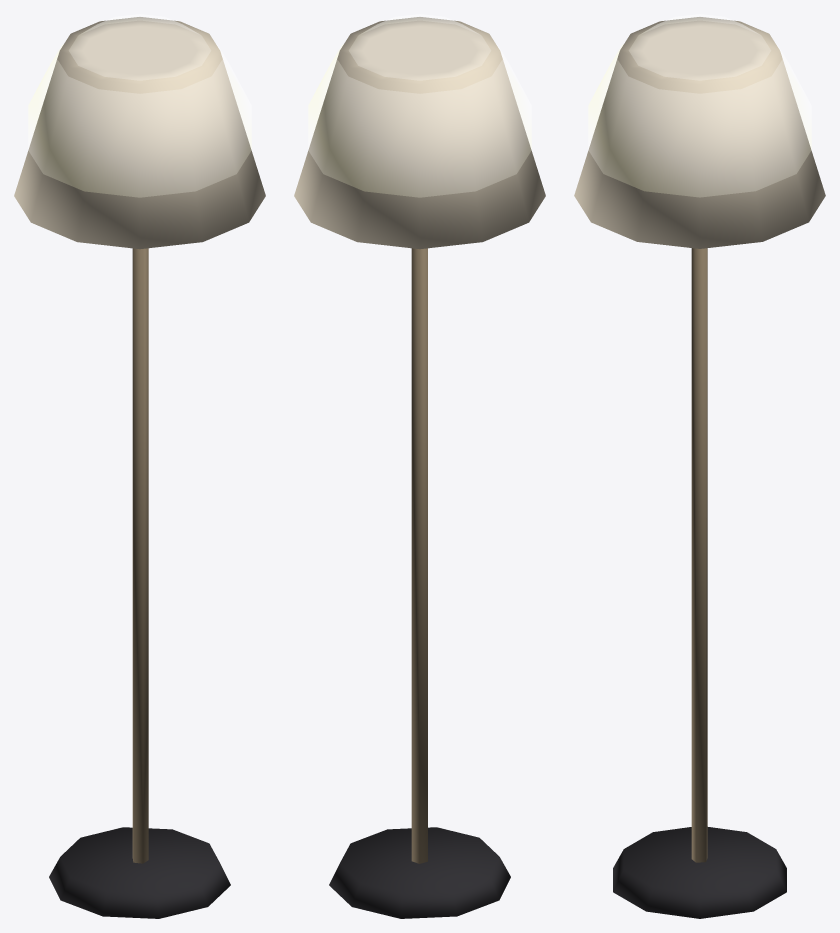
The model's file is city_floor_lamp.glb.
The picture shows the model from 3 angles, left to right: view 1: azimuth 30°, elevation 25°; view 2: azimuth 150°, elevation 25°; view 3: azimuth 270°, elevation 25°; orthographic projection.
Visible parts, largest first — view 1: CityFloorLamp_Shade, CityFloorLamp_Bulb_Halo, CityFloorLamp_Base, CityFloorLamp_Stem; view 2: CityFloorLamp_Shade, CityFloorLamp_Bulb_Halo, CityFloorLamp_Base, CityFloorLamp_Stem; view 3: CityFloorLamp_Shade, CityFloorLamp_Bulb_Halo, CityFloorLamp_Base, CityFloorLamp_Stem.
Part boxes in pixels (bbox=[...]): CityFloorLamp_Shade: bbox=[14, 17, 265, 249]; CityFloorLamp_Bulb_Halo: bbox=[28, 14, 251, 196]; CityFloorLamp_Base: bbox=[49, 827, 230, 918]; CityFloorLamp_Stem: bbox=[132, 248, 148, 863]; CityFloorLamp_Shade: bbox=[294, 17, 545, 249]; CityFloorLamp_Bulb_Halo: bbox=[308, 14, 531, 196]; CityFloorLamp_Base: bbox=[329, 827, 510, 918]; CityFloorLamp_Stem: bbox=[411, 248, 427, 863]; CityFloorLamp_Shade: bbox=[574, 17, 825, 248]; CityFloorLamp_Bulb_Halo: bbox=[588, 14, 811, 196]; CityFloorLamp_Base: bbox=[613, 827, 786, 918]; CityFloorLamp_Stem: bbox=[691, 248, 707, 862].
Size of the model in its own units: 0.44 by 1.65 by 0.44.
